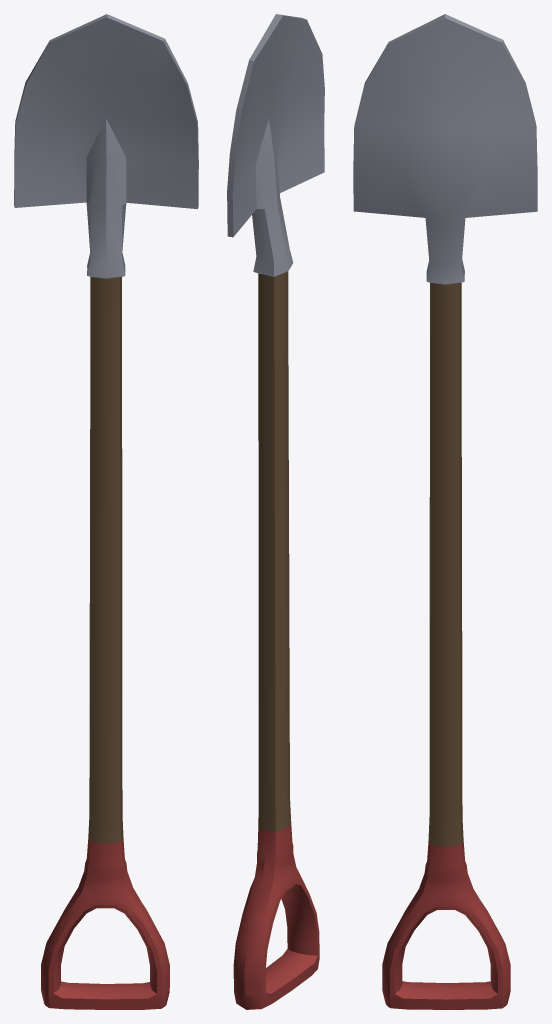
The model's file is Shovel.glb.
3 renders of one model, left to right at view 1: azimuth 90°, elevation 25°; view 2: azimuth 150°, elevation 25°; view 3: azimuth 270°, elevation 25°, orthographic.
Parts seen in each view (by area): view 1: Shovel; view 2: Shovel; view 3: Shovel.
Part boxes in pixels (x1,y1,x2,y2): Shovel: [14, 14, 198, 1009]; Shovel: [227, 14, 324, 1009]; Shovel: [353, 14, 537, 1009].
Size of the model in its own units: 0.0598 by 1.45 by 0.2452.
